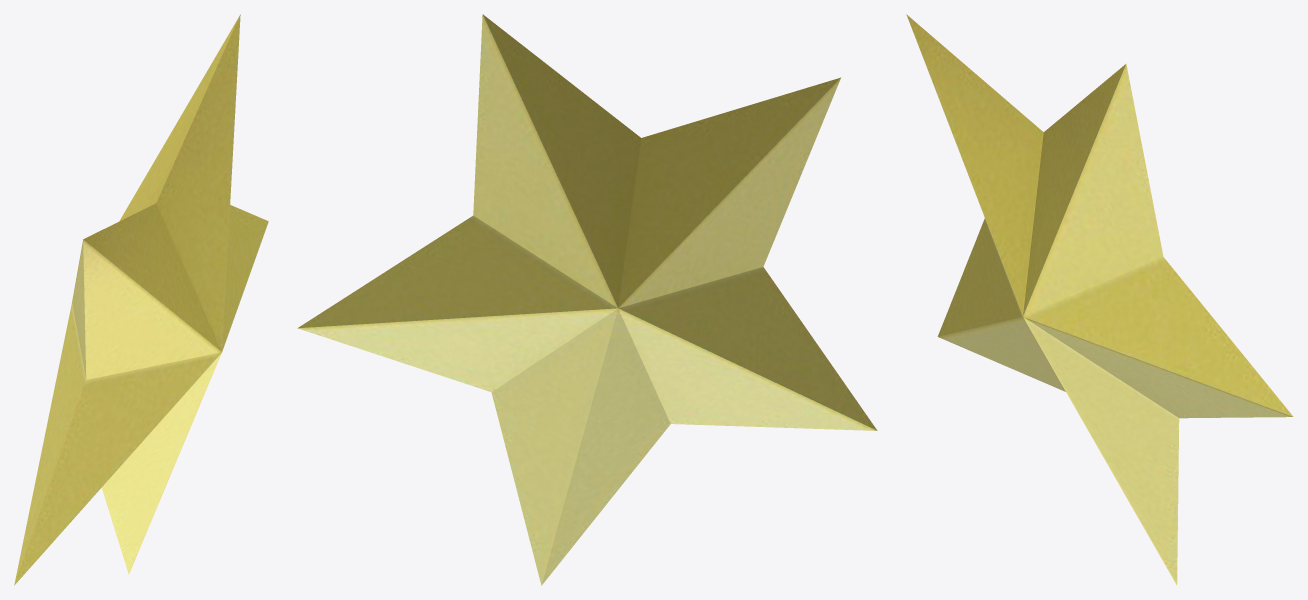
File: star.obj
3 renders of one model, left to right at view 1: azimuth 30°, elevation 25°; view 2: azimuth 150°, elevation 25°; view 3: azimuth 270°, elevation 25°, orthographic. The views are drawn at different scales.
Visible parts, largest first — view 1: dynamic; view 2: dynamic; view 3: dynamic.
Boxes of the visible parts, left/top/right/bottom form: dynamic: left=14, top=14, right=268, bottom=585; dynamic: left=297, top=14, right=877, bottom=585; dynamic: left=906, top=14, right=1293, bottom=584.
Size of the model in its own units: 289 by 358 by 223.
Materials: 1 (1 with a texture image).
